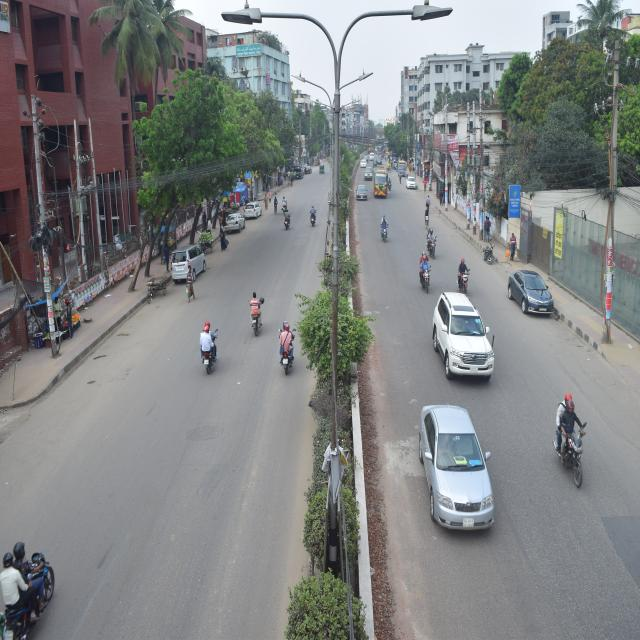bus: (374, 163, 392, 200)
car: (408, 392, 500, 546), (502, 256, 558, 326), (221, 212, 246, 238), (243, 194, 264, 224), (354, 179, 370, 209), (406, 173, 420, 192)
microbus: (428, 288, 494, 392), (168, 240, 212, 286)
motorbike: (548, 406, 596, 499), (194, 333, 227, 382), (275, 330, 301, 383), (372, 210, 394, 248), (248, 300, 267, 340), (452, 262, 471, 296), (416, 258, 433, 296), (482, 240, 502, 270), (424, 235, 440, 261), (283, 209, 294, 233), (308, 207, 319, 226)
